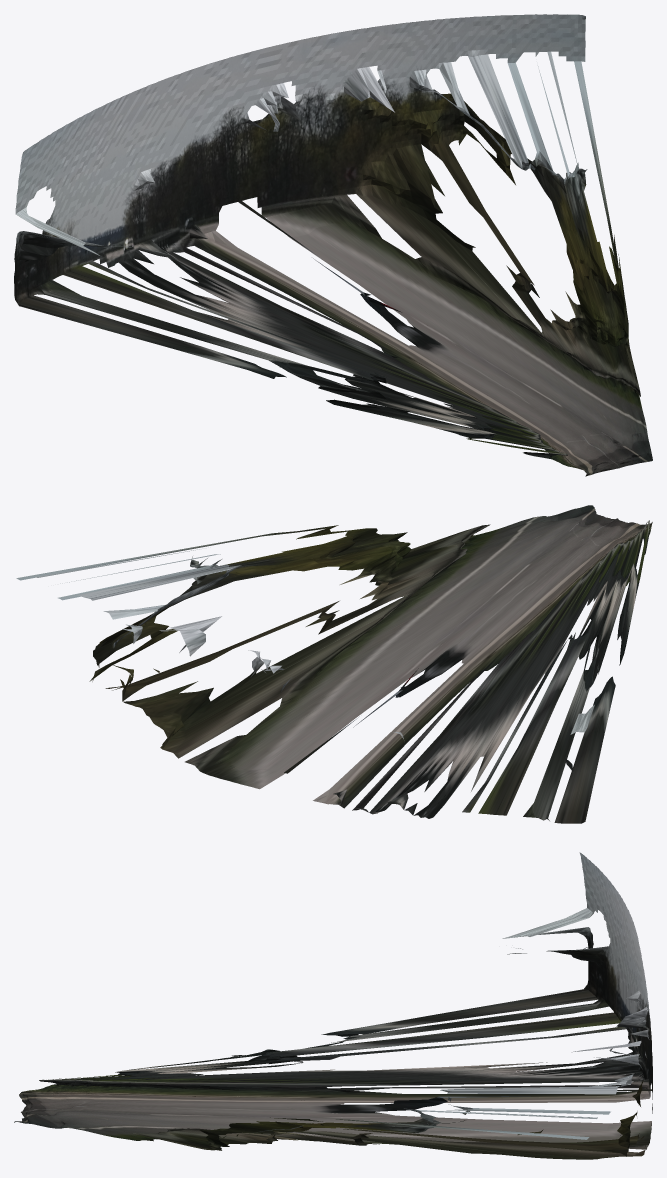
3 views of the same model, one above another, from view 1: azimuth 30°, elevation 25°; view 2: azimuth 150°, elevation 25°; view 3: azimuth 270°, elevation 25° (orthographic). The views are drawn at different scales.
Visible parts, largest first — view 1: defaultobject; view 2: defaultobject; view 3: defaultobject.
Part boxes in pixels (left/top/right/bottom): defaultobject: left=14, top=14, right=652, bottom=476; defaultobject: left=16, top=505, right=652, bottom=823; defaultobject: left=14, top=852, right=652, bottom=1159.
Size of the model in its own units: 41.02 by 12.66 by 44.82.
1 material, 1 textured.
